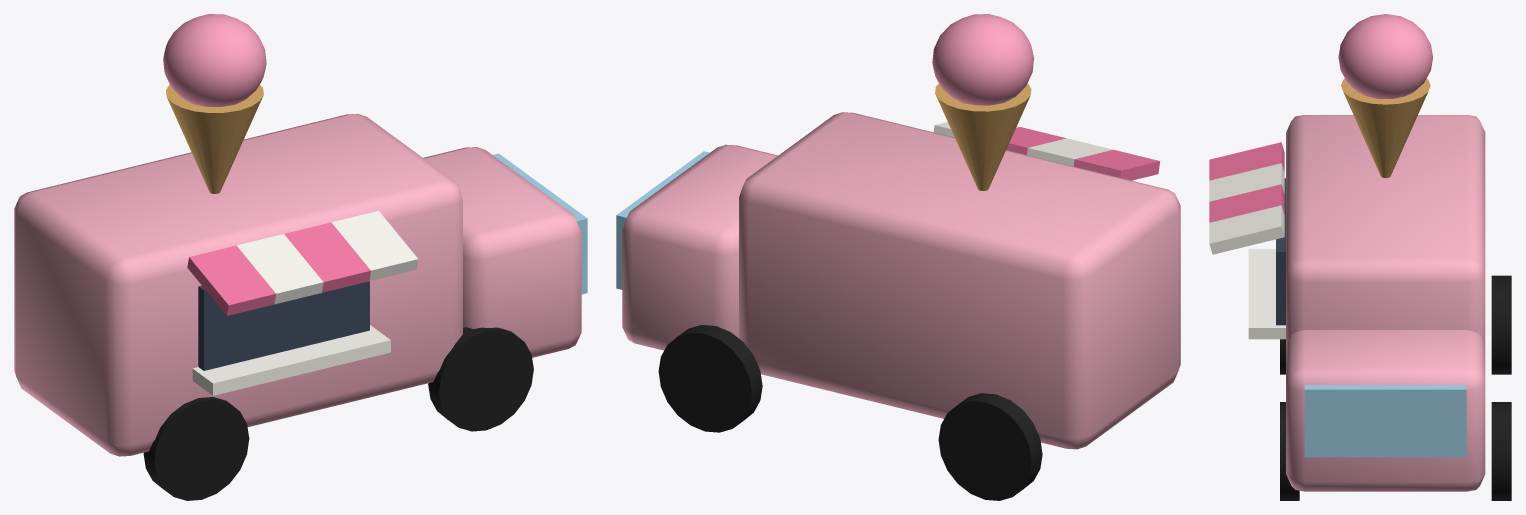
File: Ice_L10.fbx
3 renders of one model, left to right at view 1: azimuth 30°, elevation 25°; view 2: azimuth 150°, elevation 25°; view 3: azimuth 270°, elevation 25°, orthographic. The views are drawn at different scales.
Parts seen in each view (by area): view 1: I10_Body, I10_Cab, I10_Wheel (×2), I10_ServeWin, I10_SignScoop, I10_Counter, I10_SignCone, I10_Awning_1, I10_Awning_3, I10_Awning_4, I10_Awning_2, I10_Windshield; view 2: I10_Body, I10_Cab, I10_Wheel (×2), I10_SignScoop, I10_SignCone, I10_Awning_1, I10_Awning_2, I10_Windshield, I10_Awning_3; view 3: I10_Body, I10_Cab, I10_Windshield, I10_SignScoop, I10_Wheel (×3), I10_SignCone, I10_Counter, I10_Awning_4, I10_Awning_1, I10_Awning_2, I10_Awning_3, I10_ServeWin.
Part boxes in pixels (<box>): I10_Body: <box>14,114,462,456</box>; I10_Cab: <box>423,147,581,357</box>; I10_Wheel (×2): <box>143,327,533,500</box>; I10_ServeWin: <box>198,281,369,370</box>; I10_SignScoop: <box>163,14,266,106</box>; I10_Counter: <box>192,325,390,395</box>; I10_SignCone: <box>166,84,263,193</box>; I10_Awning_1: <box>187,245,275,315</box>; I10_Awning_3: <box>284,222,370,292</box>; I10_Awning_4: <box>331,211,418,281</box>; I10_Awning_2: <box>236,234,323,304</box>; I10_Windshield: <box>493,153,587,294</box>; I10_Body: <box>739,112,1180,449</box>; I10_Cab: <box>622,144,777,350</box>; I10_Wheel (×2): <box>658,325,1042,500</box>; I10_SignScoop: <box>932,14,1033,105</box>; I10_SignCone: <box>935,83,1031,190</box>; I10_Awning_1: <box>1073,149,1160,180</box>; I10_Awning_2: <box>1027,138,1112,166</box>; I10_Windshield: <box>616,151,709,289</box>; I10_Awning_3: <box>1006,127,1065,154</box>; I10_Body: <box>1286,115,1485,346</box>; I10_Cab: <box>1286,329,1485,491</box>; I10_Windshield: <box>1304,385,1466,457</box>; I10_SignScoop: <box>1338,14,1432,98</box>; I10_Wheel (×3): <box>1280,275,1511,500</box>; I10_SignCone: <box>1341,78,1430,177</box>; I10_Counter: <box>1248,249,1285,339</box>; I10_Awning_4: <box>1209,205,1284,254</box>; I10_Awning_1: <box>1209,142,1284,180</box>; I10_Awning_2: <box>1209,163,1284,201</box>; I10_Awning_3: <box>1209,184,1284,222</box>; I10_ServeWin: <box>1276,178,1285,325</box>.
Bounding box in the file's own units: 40.7 × 33.92 × 24.26.
